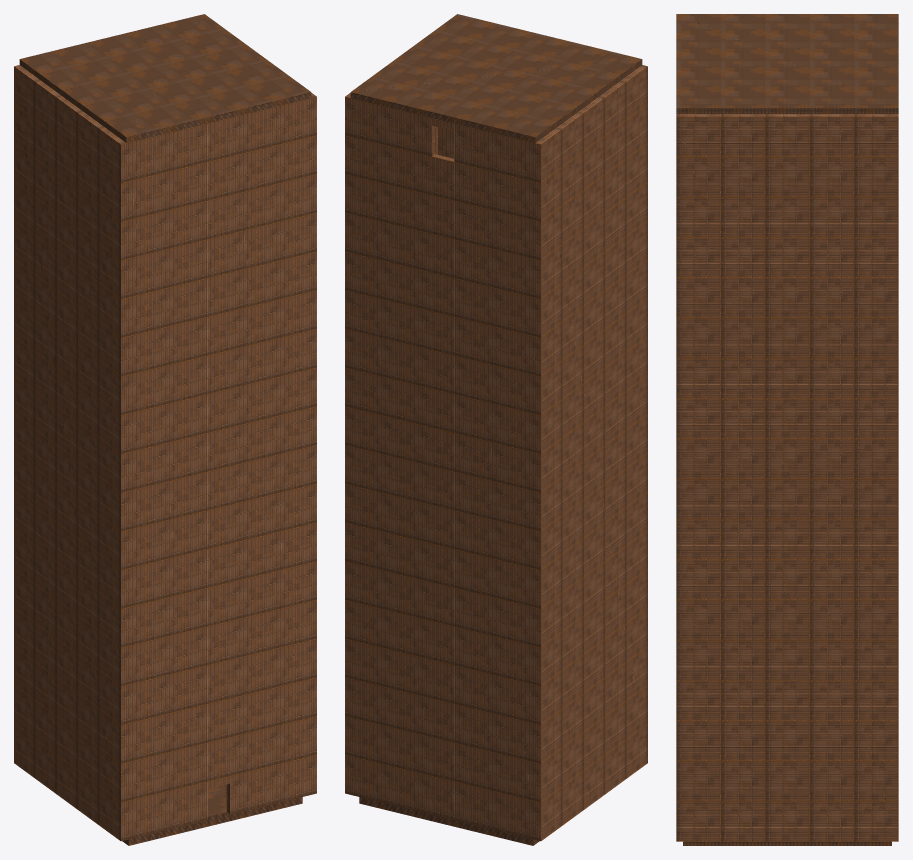
File: shell_plenum_helix.glb
3 views of the same model, side by side, from view 1: azimuth 30°, elevation 25°; view 2: azimuth 150°, elevation 25°; view 3: azimuth 270°, elevation 25° (orthographic). The views are drawn at different scales.
Visible parts, largest first — view 1: pl; view 2: pl; view 3: pl.
Boxes of the visible parts, x1,y1,x2,y2 form: pl: (14, 14, 316, 845); pl: (345, 14, 647, 845); pl: (676, 14, 898, 845).
Size of what is drawn, in the model's own units: 21.2 by 73.6 by 20.
117 materials, 117 textured.
